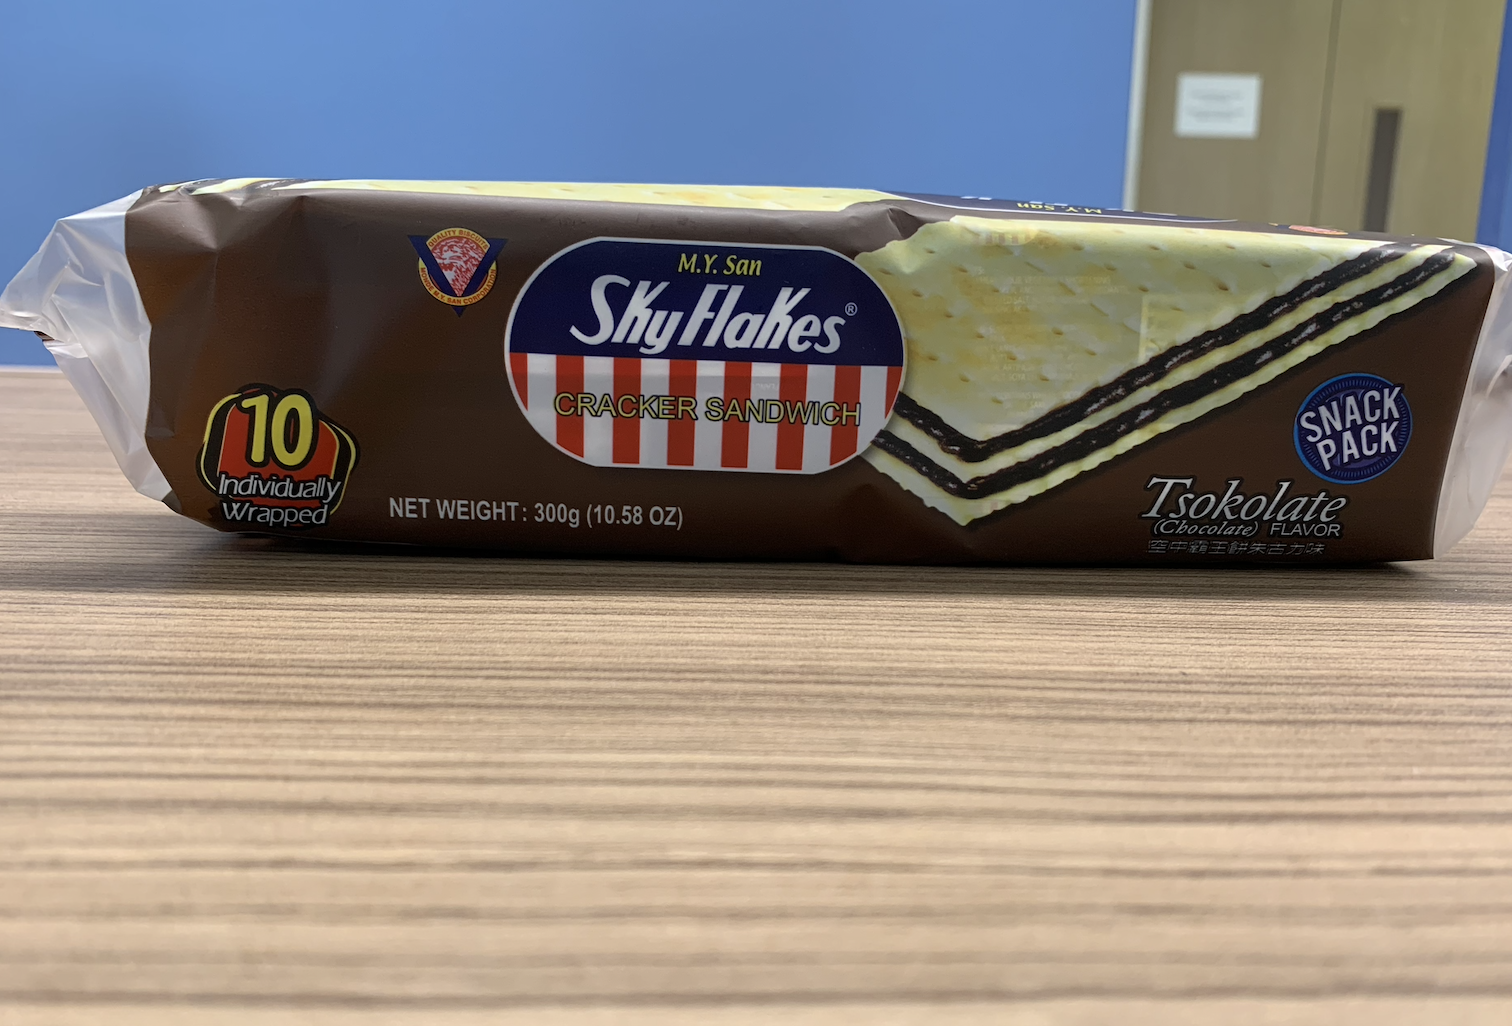crackers_150g: (203, 210, 1395, 554)
